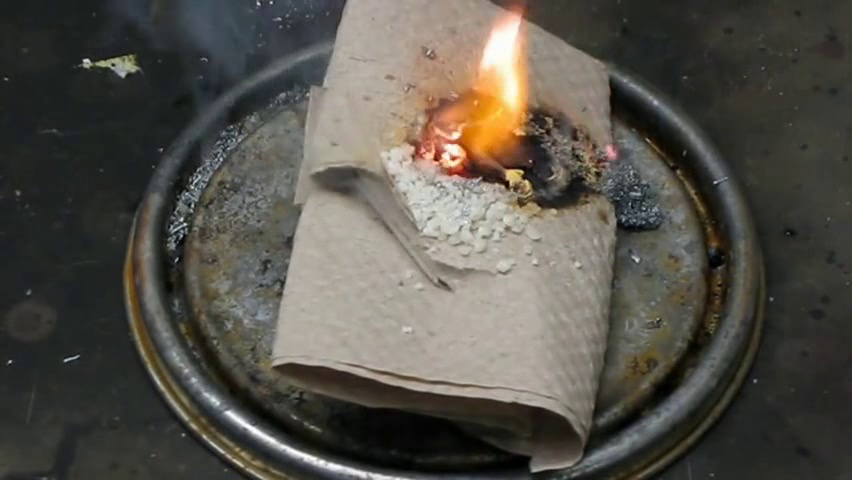fire: (452, 7, 546, 162)
